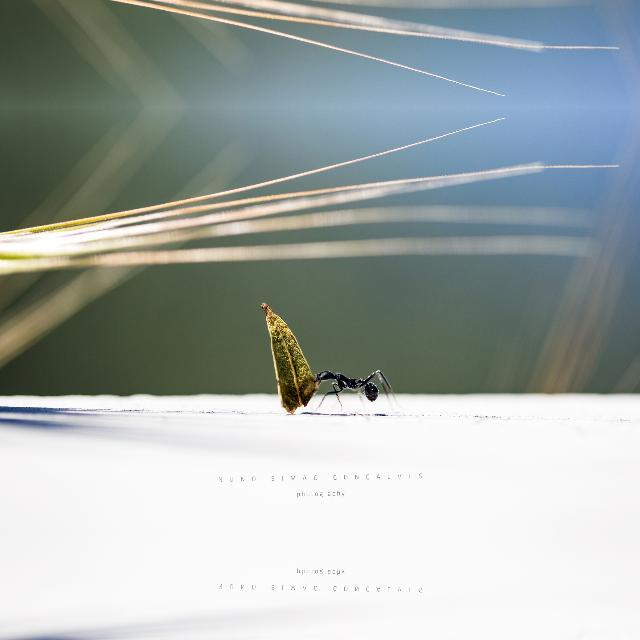Apheanogaster: (302, 361, 396, 407)
